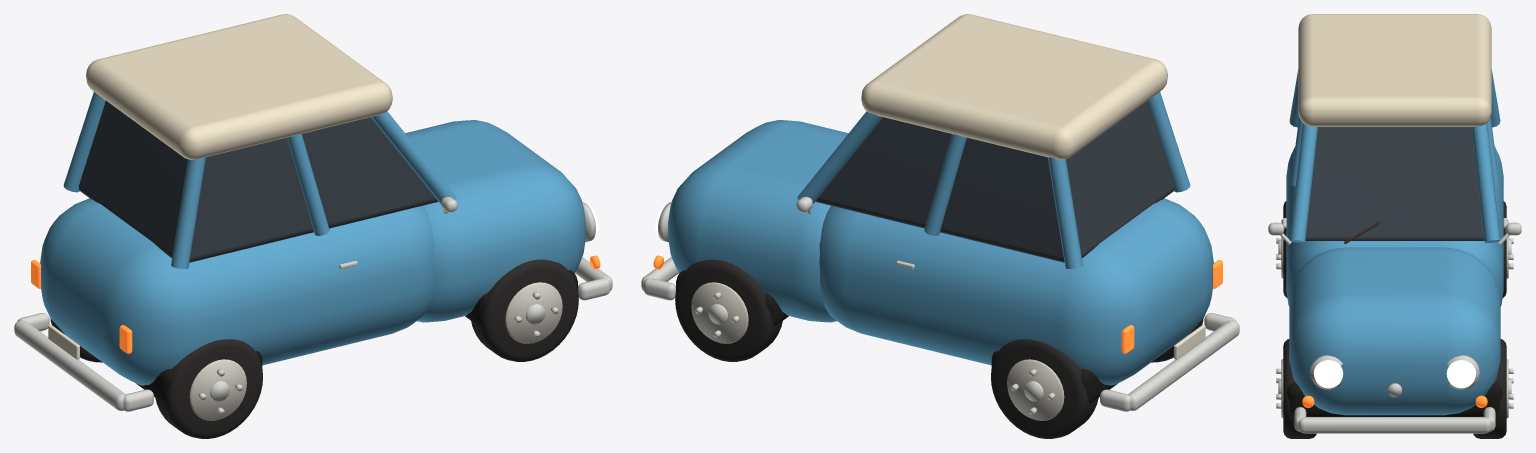
Rendered from car.glb.
3 views of the same model, side by side, from view 1: azimuth 30°, elevation 25°; view 2: azimuth 150°, elevation 25°; view 3: azimuth 270°, elevation 25° (orthographic). The views are drawn at different scales.
Visible parts, largest first — view 1: BodyRear, Glasshouse, Roof, BodyNose, WheelFR, WheelBR, BumperRear, WheelFRCap, WheelBRCap, Pillar0, Pillar1, BPillar-1 (+3 smaller); view 2: BodyRear, Glasshouse, Roof, BodyNose, WheelFL, WheelBL, BumperRear, WheelFLCap, WheelBLCap, Pillar3, Pillar2, BPillar1 (+3 smaller); view 3: BodyNose, Roof, Glasshouse, BodyRear, BumperFront, Pillar1, Pillar2, WellFront, WheelFL, WheelFR, Head1, Head-1 (+8 smaller).
Part boxes in pixels (left/top/right/bottom): BodyRear: left=40, top=198, right=434, bottom=385; Glasshouse: left=78, top=100, right=438, bottom=262; Roof: left=86, top=14, right=392, bottom=159; BodyNose: left=405, top=120, right=585, bottom=322; WheelFR: left=471, top=259, right=578, bottom=361; WheelBR: left=155, top=339, right=262, bottom=438; BumperRear: left=14, top=320, right=125, bottom=410; WheelFRCap: left=505, top=282, right=562, bottom=343; WheelBRCap: left=189, top=359, right=246, bottom=420; Pillar0: left=171, top=157, right=205, bottom=268; Pillar1: left=370, top=111, right=456, bottom=203; BPillar-1: left=287, top=134, right=329, bottom=235; BodyRear: left=819, top=198, right=1213, bottom=385; Glasshouse: left=815, top=100, right=1175, bottom=262; Roof: left=861, top=14, right=1167, bottom=159; BodyNose: left=668, top=120, right=848, bottom=322; WheelFL: left=675, top=259, right=782, bottom=361; WheelBL: left=991, top=339, right=1098, bottom=438; BumperRear: left=1128, top=320, right=1239, bottom=410; WheelFLCap: left=691, top=282, right=748, bottom=343; WheelBLCap: left=1007, top=359, right=1064, bottom=420; Pillar3: left=1048, top=157, right=1082, bottom=268; Pillar2: left=797, top=111, right=883, bottom=203; BPillar1: left=924, top=134, right=966, bottom=235; BodyNose: left=1289, top=247, right=1500, bottom=415; Roof: left=1298, top=14, right=1491, bottom=126; Glasshouse: left=1305, top=127, right=1484, bottom=240; BodyRear: left=1286, top=146, right=1503, bottom=306; BumperFront: left=1298, top=417, right=1491, bottom=433; Pillar1: left=1289, top=123, right=1317, bottom=242; Pillar2: left=1472, top=123, right=1500, bottom=242; WellFront: left=1287, top=382, right=1502, bottom=416; WheelFL: left=1473, top=339, right=1506, bottom=438; WheelFR: left=1283, top=339, right=1316, bottom=438; Head1: left=1446, top=360, right=1476, bottom=388; Head-1: left=1313, top=360, right=1343, bottom=388.
Size of the model in its own units: 2.59 by 1.51 by 1.26.
